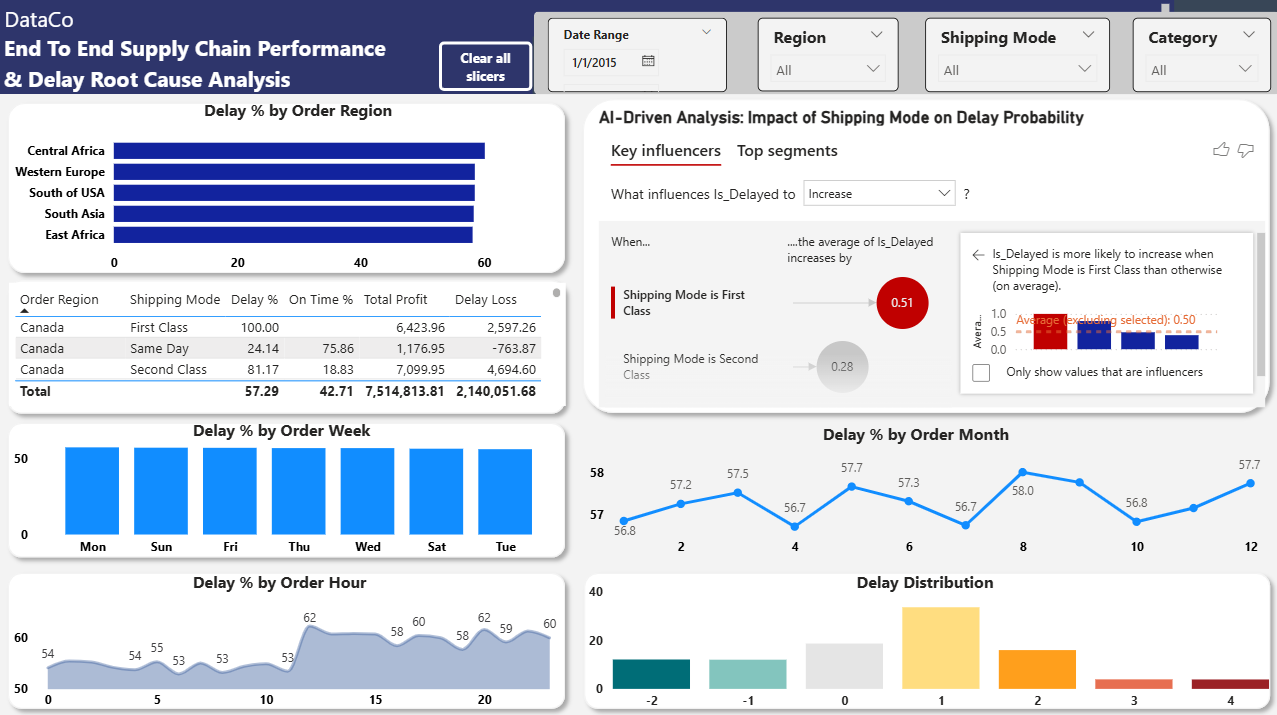

Layout of this report page (visuals, bound fields, positions):
{"tool":"powerbi","page":{"name":"Page 2","canvas":[1280,720],"ordinal":1},"visuals":[{"type":"textbox","box":[0,29,533.2,78.4],"z":0},{"type":"shape","box":[0,95.3,1280,624.9],"z":1000},{"type":"textbox","box":[0,0,1175.1,37.4],"z":2000},{"type":"shape","box":[535,12,745,83],"z":3000},{"type":"slicer","fields":{"Values":["DataCoSupplyChainDataset.Customer Segment"]},"box":[1134,19,138,74],"z":4000},{"type":"slicer","fields":{"Values":["DataCoSupplyChainDataset.Shipping Mode"]},"box":[926,19,185,74],"z":5000},{"type":"slicer","fields":{"Values":["DataCoSupplyChainDataset.Order Region"]},"box":[758.3,19.2,140.8,73.3],"z":6000},{"type":"slicer","fields":{"Values":["DataCoSupplyChainDataset.Order Date"]},"box":[549.2,18.3,179.2,74.2],"z":7000},{"type":"barChart","fields":{"Category":["DataCoSupplyChainDataset.Order Region"],"Y":["DataCoSupplyChainDataset.Delay %"]},"box":[672,235.3,439.1,139.9],"z":8000},{"type":"shape","box":[0,414.4,575,152.3],"z":9000},{"type":"shape","box":[575.5,91.7,704.6,331.8],"z":10000},{"type":"keyDriversVisual","title":"AI-Driven Analysis: Impact of Shipping Mode on Delay Probability","fields":{"Target":["DataCoSupplyChainDataset.Is_Delayed"],"ExplainBy":["DataCoSupplyChainDataset.Shipping Mode","DataCoSupplyChainDataset.Order Region","DataCoSupplyChainDataset.Customer Segment","DataCoSupplyChainDataset.Department Name","DataCoSupplyChainDataset.Order Status","DataCoSupplyChainDataset.Type"]},"box":[595.5,107,676.5,300.5],"z":11000},{"type":"shape","box":[0,94.7,575,188],"z":12000},{"type":"shape","box":[0,273.1,575,150.9],"z":13000},{"type":"textbox","box":[1023.7,168.8,229.2,34.3],"z":14000},{"type":"shape","box":[0,565.4,575,153.7],"z":15000},{"type":"barChart","fields":{"Category":["DataCoSupplyChainDataset.Order Region"],"Y":["DataCoSupplyChainDataset.Delay %"]},"box":[10,122.6,548.8,159.6],"z":16000},{"type":"lineChart","fields":{"Category":["DataCoSupplyChainDataset.Order Month"],"Y":["DataCoSupplyChainDataset.Delay %"]},"box":[590.1,439.1,684.7,127.6],"z":17000},{"type":"clusteredColumnChart","fields":{"Category":["DataCoSupplyChainDataset.Order Day of Week"],"Y":["DataCoSupplyChainDataset.Delay %"]},"box":[9.6,430.9,557.1,134.5],"z":18000},{"type":"lineChart","fields":{"Category":["DataCoSupplyChainDataset.Order Hour"],"Y":["DataCoSupplyChainDataset.Delay %"]},"box":[9.6,599.7,577.7,119.4],"z":19000},{"type":"shape","box":[576.3,565.4,703.9,153.7],"z":20000},{"type":"tableEx","fields":{"Values":["DataCoSupplyChainDataset.Order Region","DataCoSupplyChainDataset.Shipping Mode","DataCoSupplyChainDataset.Delay %","DataCoSupplyChainDataset.On Time %","DataCoSupplyChainDataset.Total Profit","DataCoSupplyChainDataset.Delay Loss"]},"box":[9.6,284,557.1,123.5],"z":21000},{"type":"lineClusteredColumnComboChart","fields":{"Category":["DataCoSupplyChainDataset.Delay"],"Y":["DataCoSupplyChainDataset.Order % by Delay Day"]},"box":[584.6,579.1,690.2,141.3],"z":22000},{"type":"actionButton","box":[440.5,42.5,93.3,49.4],"z":23000},{"type":"textbox","box":[819.2,418.5,223.7,41.2],"z":24000},{"type":"textbox","box":[200.3,94.7,199,34.3],"z":25000},{"type":"textbox","box":[189.4,414.4,209.9,34.3],"z":26000},{"type":"textbox","box":[189.4,566.7,209.9,34.3],"z":27000},{"type":"textbox","box":[852.1,566.7,227.8,38.4],"z":28000}]}

Visuals, with their boxes in screenshot pixels (x1, y1, x2, y2), scaled from the page's 1280x720 canvas onto the 1277x715 screenshot:
textbox: box(0, 29, 532, 107)
shape: box(0, 95, 1276, 714)
textbox: box(0, 0, 1172, 37)
shape: box(534, 12, 1276, 94)
slicer - DataCoSupplyChainDataset.Customer Segment: box(1131, 19, 1269, 92)
slicer - DataCoSupplyChainDataset.Shipping Mode: box(924, 19, 1108, 92)
slicer - DataCoSupplyChainDataset.Order Region: box(757, 19, 897, 92)
slicer - DataCoSupplyChainDataset.Order Date: box(548, 18, 727, 92)
barChart - DataCoSupplyChainDataset.Order Region x DataCoSupplyChainDataset.Delay %: box(670, 234, 1108, 373)
shape: box(0, 412, 574, 563)
shape: box(574, 91, 1276, 421)
"AI-Driven Analysis: Impact of Shipping Mode on Delay Probability" keyDriversVisual: box(594, 106, 1269, 405)
shape: box(0, 94, 574, 281)
shape: box(0, 271, 574, 421)
textbox: box(1021, 168, 1250, 202)
shape: box(0, 561, 574, 714)
barChart - DataCoSupplyChainDataset.Order Region x DataCoSupplyChainDataset.Delay %: box(10, 122, 557, 280)
lineChart - DataCoSupplyChainDataset.Order Month x DataCoSupplyChainDataset.Delay %: box(589, 436, 1272, 563)
clusteredColumnChart - DataCoSupplyChainDataset.Order Day of Week x DataCoSupplyChainDataset.Delay %: box(10, 428, 565, 561)
lineChart - DataCoSupplyChainDataset.Order Hour x DataCoSupplyChainDataset.Delay %: box(10, 596, 586, 714)
shape: box(575, 561, 1276, 714)
tableEx - DataCoSupplyChainDataset.Order Region x DataCoSupplyChainDataset.Shipping Mode: box(10, 282, 565, 405)
lineClusteredColumnComboChart - DataCoSupplyChainDataset.Delay x DataCoSupplyChainDataset.Order % by Delay Day: box(583, 575, 1272, 714)
actionButton: box(439, 42, 533, 91)
textbox: box(817, 416, 1040, 457)
textbox: box(200, 94, 398, 128)
textbox: box(189, 412, 398, 446)
textbox: box(189, 563, 398, 597)
textbox: box(850, 563, 1077, 601)
